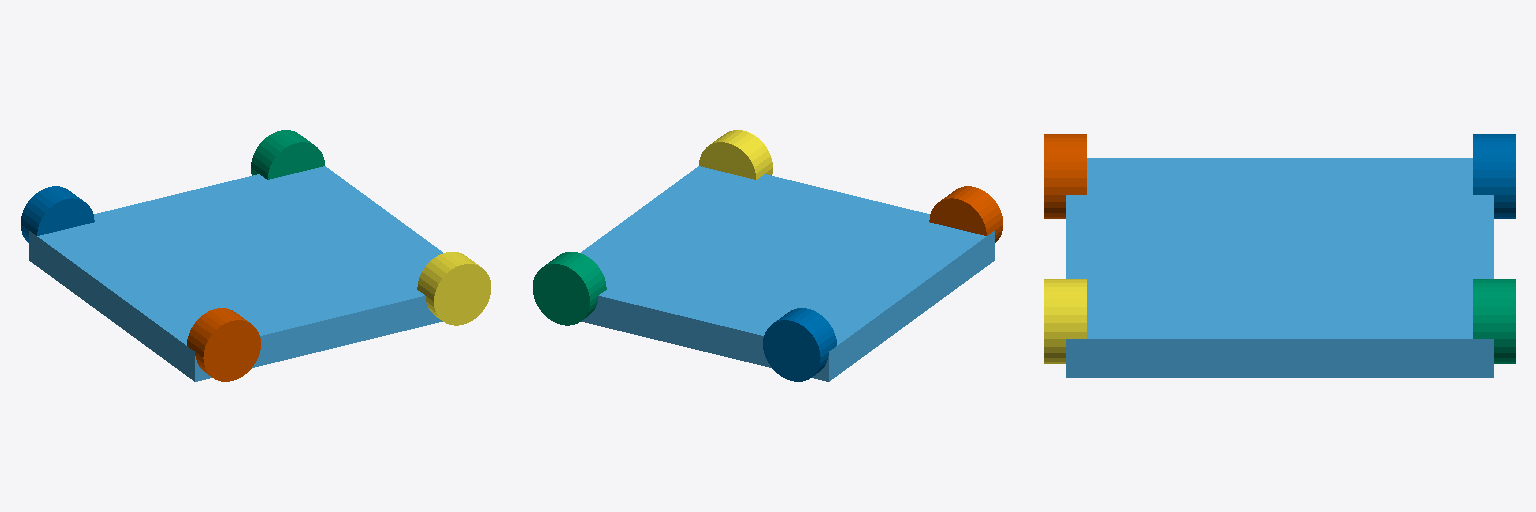
robot.urdf — basic_robot:
<?xml version="1.0" ?>
<!-- =================================================================================== -->
<!-- |    This document was autogenerated by xacro from myrobot.xacro                  | -->
<!-- |    EDITING THIS FILE BY HAND IS NOT RECOMMENDED                                 | -->
<!-- =================================================================================== -->
<robot name="basic_robot">
  <param command="xacro '[local-path]/nasa_ws/src/new_robot_urdf/urdf/myrobot.urdf.xacro'" name="robot_description"/>
  <!--colors-->
  <material name="blue">
    <color rgba=" 0 0 0.8 1"/>
  </material>
  <!--All Xacro Macros-->
  <!-- Dummy link to get rid of  base_link has an inertia specified in the URDF error -->
  <link name="dummy"/>
  <!-- Dummy joint to get rid of  base_link has an inertia specified in the URDF error -->
  <joint name="dummy_joint" type="fixed">
    <parent link="dummy"/>
    <child link="base_link"/>
  </joint>
  <link name="base_link">
    <visual>
      <!-- <origin xyz="${base_origin}"/> -->
      <geometry>
        <box size="1.0 1.0 0.1"/>
      </geometry>
    </visual>
    <collision>
      <!-- <origin xyz="${base_origin}"/> -->
      <geometry>
        <box size="1.0 1.0 0.1"/>
      </geometry>
    </collision>
    <inertial>
      <mass value="10"/>
      <inertia ixx="1.0" ixy="0.0" ixz="0.0" iyy="1.0" iyz="0.0" izz="1.0"/>
    </inertial>
  </link>
  <link name="right_0_wheel">
    <visual>
      <origin rpy="1.5707963267948966 0 0" xyz="0 0 0"/>
      <geometry>
        <cylinder length="0.1" radius="0.1"/>
      </geometry>
      <material name="black"/>
    </visual>
    <collision>
      <origin rpy="1.5707963267948966 0 0" xyz="0 0 0"/>
      <geometry>
        <cylinder length="0.1" radius="0.1"/>
      </geometry>
    </collision>
    <inertial>
      <mass value="1"/>
      <inertia ixx="1.0" ixy="0.0" ixz="0.0" iyy="1.0" iyz="0.0" izz="1.0"/>
    </inertial>
  </link>
  <!-- create xacro macro fo wheel joint -->
  <joint name="right_0_wheel_joint" type="continuous">
    <axis rpy="0 0 0" xyz="0 1 0"/>
    <parent link="base_link"/>
    <child link="right_0_wheel"/>
    <origin rpy="0 0 0" xyz="0.4 0.5 0.05"/>
  </joint>
  <!-- This block provides the simulator (Gazebo) with information on a few additional
      physical properties. See http://gazebosim.org/tutorials/?tut=ros_urdf for more-->
  <gazebo reference="right_0_wheel">
    <mu1 value="200.0"/>
    <mu2 value="100.0"/>
    <kp value="10000000.0"/>
    <kd value="1.0"/>
    <material>Gazebo/Grey</material>
  </gazebo>
  <!-- This block connects the wheel joint to an actuator (motor), which informs both
          simulation and visualization of the robot -->
  <transmission name="right_0_wheel_trans">
    <type>transmission_interface/SimpleTransmission</type>
    <actuator name="right_0_wheel_motor">
      <mechanicalReduction>1</mechanicalReduction>
    </actuator>
    <joint name="right_0_wheel_joint">
      <hardwareInterface>hardware_interface/VelocityJointInterface</hardwareInterface>
    </joint>
  </transmission>
  <link name="left_1_wheel">
    <visual>
      <origin rpy="1.5707963267948966 0 0" xyz="0 0 0"/>
      <geometry>
        <cylinder length="0.1" radius="0.1"/>
      </geometry>
      <material name="black"/>
    </visual>
    <collision>
      <origin rpy="1.5707963267948966 0 0" xyz="0 0 0"/>
      <geometry>
        <cylinder length="0.1" radius="0.1"/>
      </geometry>
    </collision>
    <inertial>
      <mass value="1"/>
      <inertia ixx="1.0" ixy="0.0" ixz="0.0" iyy="1.0" iyz="0.0" izz="1.0"/>
    </inertial>
  </link>
  <!-- create xacro macro fo wheel joint -->
  <joint name="left_1_wheel_joint" type="continuous">
    <axis rpy="0 0 0" xyz="0 1 0"/>
    <parent link="base_link"/>
    <child link="left_1_wheel"/>
    <origin rpy="0 0 0" xyz="0.4 -0.5 0.05"/>
  </joint>
  <!-- This block provides the simulator (Gazebo) with information on a few additional
      physical properties. See http://gazebosim.org/tutorials/?tut=ros_urdf for more-->
  <gazebo reference="left_1_wheel">
    <mu1 value="200.0"/>
    <mu2 value="100.0"/>
    <kp value="10000000.0"/>
    <kd value="1.0"/>
    <material>Gazebo/Grey</material>
  </gazebo>
  <!-- This block connects the wheel joint to an actuator (motor), which informs both
          simulation and visualization of the robot -->
  <transmission name="left_1_wheel_trans">
    <type>transmission_interface/SimpleTransmission</type>
    <actuator name="left_1_wheel_motor">
      <mechanicalReduction>1</mechanicalReduction>
    </actuator>
    <joint name="left_1_wheel_joint">
      <hardwareInterface>hardware_interface/VelocityJointInterface</hardwareInterface>
    </joint>
  </transmission>
  <link name="right_2_wheel">
    <visual>
      <origin rpy="1.5707963267948966 0 0" xyz="0 0 0"/>
      <geometry>
        <cylinder length="0.1" radius="0.1"/>
      </geometry>
      <material name="black"/>
    </visual>
    <collision>
      <origin rpy="1.5707963267948966 0 0" xyz="0 0 0"/>
      <geometry>
        <cylinder length="0.1" radius="0.1"/>
      </geometry>
    </collision>
    <inertial>
      <mass value="1"/>
      <inertia ixx="1.0" ixy="0.0" ixz="0.0" iyy="1.0" iyz="0.0" izz="1.0"/>
    </inertial>
  </link>
  <!-- create xacro macro fo wheel joint -->
  <joint name="right_2_wheel_joint" type="continuous">
    <axis rpy="0 0 0" xyz="0 1 0"/>
    <parent link="base_link"/>
    <child link="right_2_wheel"/>
    <origin rpy="0 0 0" xyz="-0.4 0.5 0.05"/>
  </joint>
  <!-- This block provides the simulator (Gazebo) with information on a few additional
      physical properties. See http://gazebosim.org/tutorials/?tut=ros_urdf for more-->
  <gazebo reference="right_2_wheel">
    <mu1 value="200.0"/>
    <mu2 value="100.0"/>
    <kp value="10000000.0"/>
    <kd value="1.0"/>
    <material>Gazebo/Grey</material>
  </gazebo>
  <!-- This block connects the wheel joint to an actuator (motor), which informs both
          simulation and visualization of the robot -->
  <transmission name="right_2_wheel_trans">
    <type>transmission_interface/SimpleTransmission</type>
    <actuator name="right_2_wheel_motor">
      <mechanicalReduction>1</mechanicalReduction>
    </actuator>
    <joint name="right_2_wheel_joint">
      <hardwareInterface>hardware_interface/VelocityJointInterface</hardwareInterface>
    </joint>
  </transmission>
  <link name="left_3_wheel">
    <visual>
      <origin rpy="1.5707963267948966 0 0" xyz="0 0 0"/>
      <geometry>
        <cylinder length="0.1" radius="0.1"/>
      </geometry>
      <material name="black"/>
    </visual>
    <collision>
      <origin rpy="1.5707963267948966 0 0" xyz="0 0 0"/>
      <geometry>
        <cylinder length="0.1" radius="0.1"/>
      </geometry>
    </collision>
    <inertial>
      <mass value="1"/>
      <inertia ixx="1.0" ixy="0.0" ixz="0.0" iyy="1.0" iyz="0.0" izz="1.0"/>
    </inertial>
  </link>
  <!-- create xacro macro fo wheel joint -->
  <joint name="left_3_wheel_joint" type="continuous">
    <axis rpy="0 0 0" xyz="0 1 0"/>
    <parent link="base_link"/>
    <child link="left_3_wheel"/>
    <origin rpy="0 0 0" xyz="-0.4 -0.5 0.05"/>
  </joint>
  <!-- This block provides the simulator (Gazebo) with information on a few additional
      physical properties. See http://gazebosim.org/tutorials/?tut=ros_urdf for more-->
  <gazebo reference="left_3_wheel">
    <mu1 value="200.0"/>
    <mu2 value="100.0"/>
    <kp value="10000000.0"/>
    <kd value="1.0"/>
    <material>Gazebo/Grey</material>
  </gazebo>
  <!-- This block connects the wheel joint to an actuator (motor), which informs both
          simulation and visualization of the robot -->
  <transmission name="left_3_wheel_trans">
    <type>transmission_interface/SimpleTransmission</type>
    <actuator name="left_3_wheel_motor">
      <mechanicalReduction>1</mechanicalReduction>
    </actuator>
    <joint name="left_3_wheel_joint">
      <hardwareInterface>hardware_interface/VelocityJointInterface</hardwareInterface>
    </joint>
  </transmission>
  <!-- Gazebo plugin for ROS Control -->
  <gazebo>
    <plugin filename="libgazebo_ros_control.so" name="gazebo_ros_control">
      <robotNamespace>/</robotNamespace>
    </plugin>
  </gazebo>
</robot>

--- Render facts (derived) ---
Views: 3 orthographic renders of the robot side by side, from view 1: azimuth 30°, elevation 25°; view 2: azimuth 150°, elevation 25°; view 3: azimuth 270°, elevation 25°.
Model basic_robot with 6 links and 5 joints (4 continuous, 1 fixed), rooted at dummy, posed every joint at zero.
Visible links, largest first — view 1: base_link, left_3_wheel, left_1_wheel, right_2_wheel, right_0_wheel; view 2: base_link, right_2_wheel, right_0_wheel, left_3_wheel, left_1_wheel; view 3: base_link, right_2_wheel, left_3_wheel, right_0_wheel, left_1_wheel.
Boxes of the visible links, x1,y1,x2,y2 form: base_link: (29, 166, 442, 381); left_3_wheel: (187, 308, 260, 381); left_1_wheel: (417, 252, 490, 325); right_2_wheel: (21, 186, 94, 242); right_0_wheel: (251, 130, 324, 179); base_link: (581, 166, 994, 381); right_2_wheel: (763, 308, 836, 381); right_0_wheel: (533, 252, 606, 325); left_3_wheel: (929, 186, 1002, 242); left_1_wheel: (699, 130, 772, 179); base_link: (1066, 158, 1493, 377); right_2_wheel: (1473, 134, 1515, 218); left_3_wheel: (1044, 134, 1086, 218); right_0_wheel: (1473, 279, 1515, 363); left_1_wheel: (1044, 279, 1086, 363).
Bounding box of the posed robot: 1 × 1.1 × 0.2 m (x, y, z).
Geometry: primitives only (box / cylinder / sphere), no mesh files.